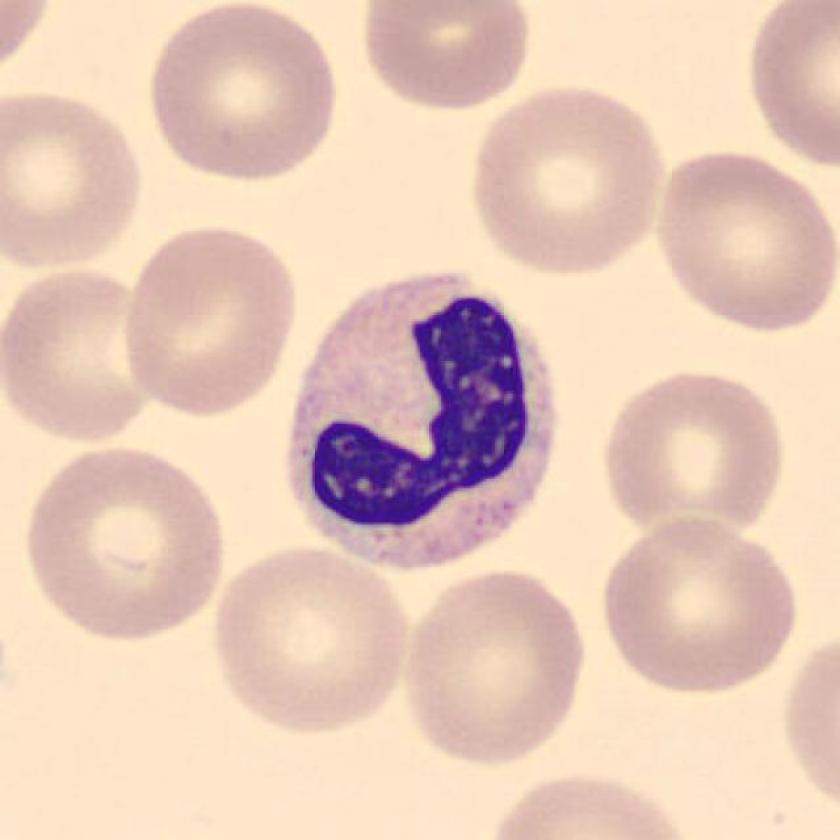neutrophil: (289, 269, 554, 565)
